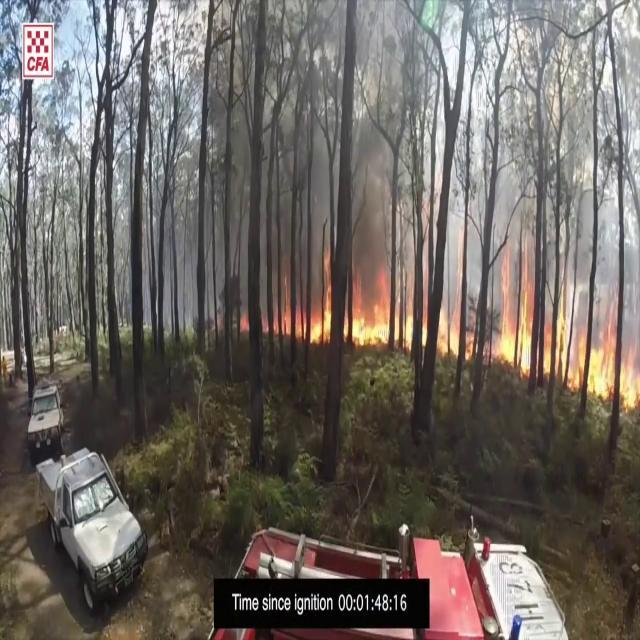Fire: (293, 252, 433, 360), (573, 304, 639, 412), (488, 254, 534, 376)
Smoke: (188, 0, 418, 311)
